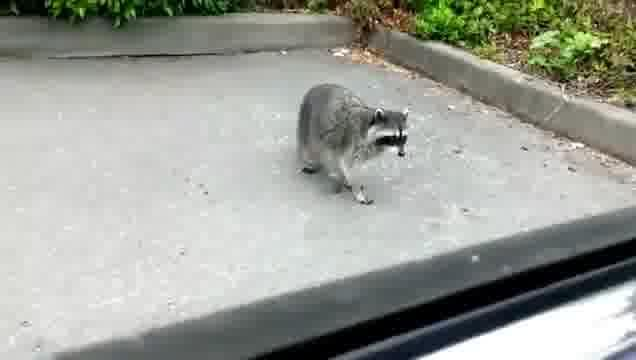raccoon: (295, 80, 415, 207)
